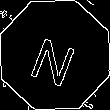N_N: (27, 24, 83, 86)
